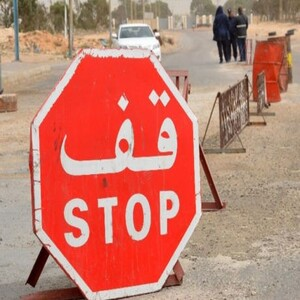stop: (32, 49, 205, 294)
